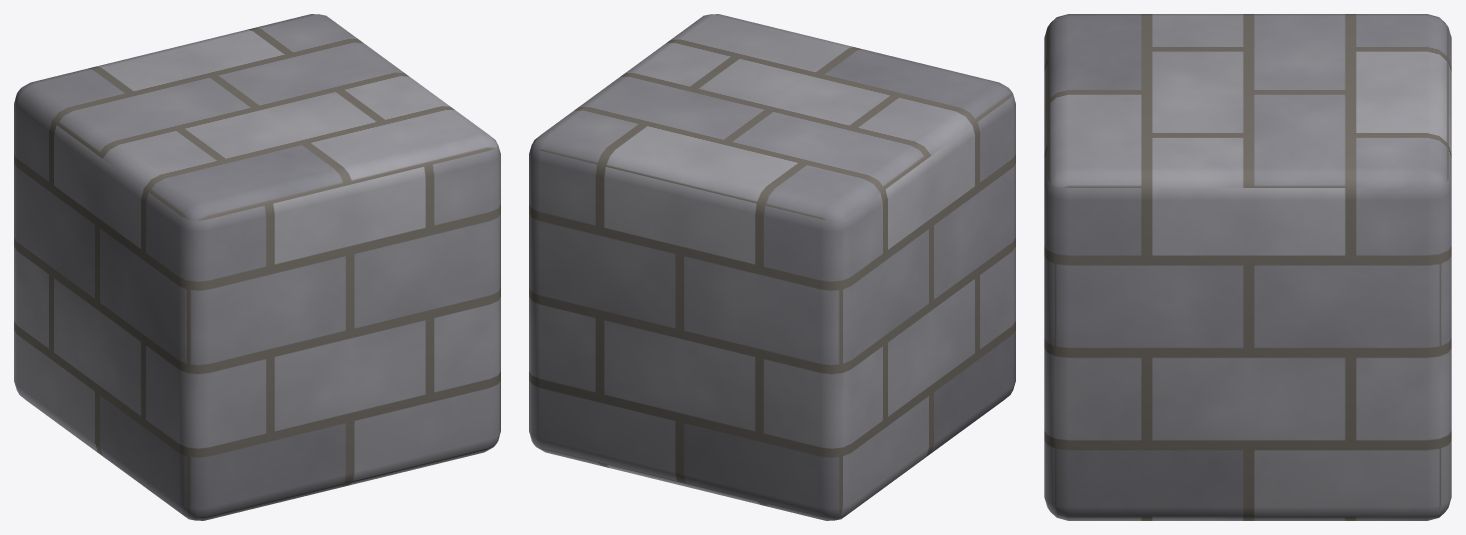
The model's file is border.glb.
The picture shows the model from 3 angles, left to right: view 1: azimuth 30°, elevation 25°; view 2: azimuth 150°, elevation 25°; view 3: azimuth 270°, elevation 25°; orthographic projection. The views are drawn at different scales.
Parts seen in each view (by area): view 1: border; view 2: border; view 3: border.
Boxes of the visible parts, x1=… form: border: x1=14, y1=14, x2=500, y2=520; border: x1=529, y1=14, x2=1015, y2=520; border: x1=1044, y1=14, x2=1451, y2=520.
Size of the model in its own units: 1 by 0.95 by 1.
Materials: 1 (1 with a texture image).
